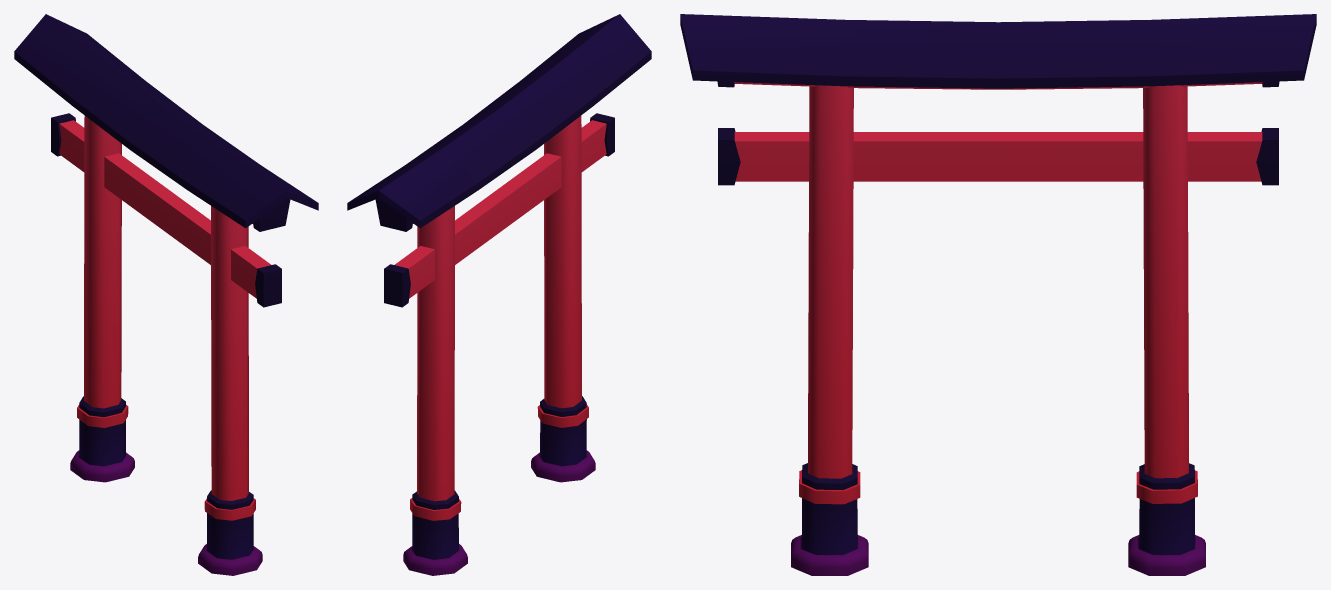
Rendered from ToriGate.fbx.
3 renders of one model, left to right at view 1: azimuth 30°, elevation 25°; view 2: azimuth 150°, elevation 25°; view 3: azimuth 270°, elevation 25°, orthographic. The views are drawn at different scales.
Visible parts, largest first — view 1: pCube17; view 2: pCube17; view 3: pCube17.
Boxes of the visible parts, x1,y1,x2,y2 form: pCube17: (14, 14, 318, 575); pCube17: (347, 14, 651, 575); pCube17: (680, 14, 1316, 575).
Bounding box in the file's own units: 100 × 542 × 573.
